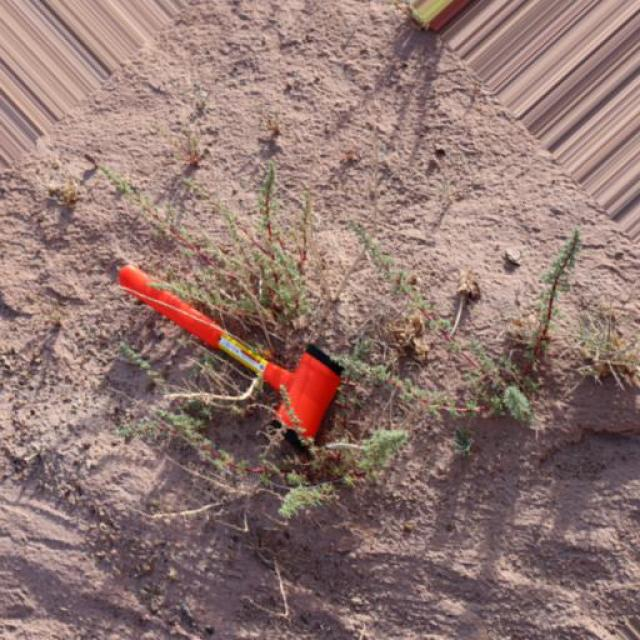mallet: (115, 262, 345, 448)
